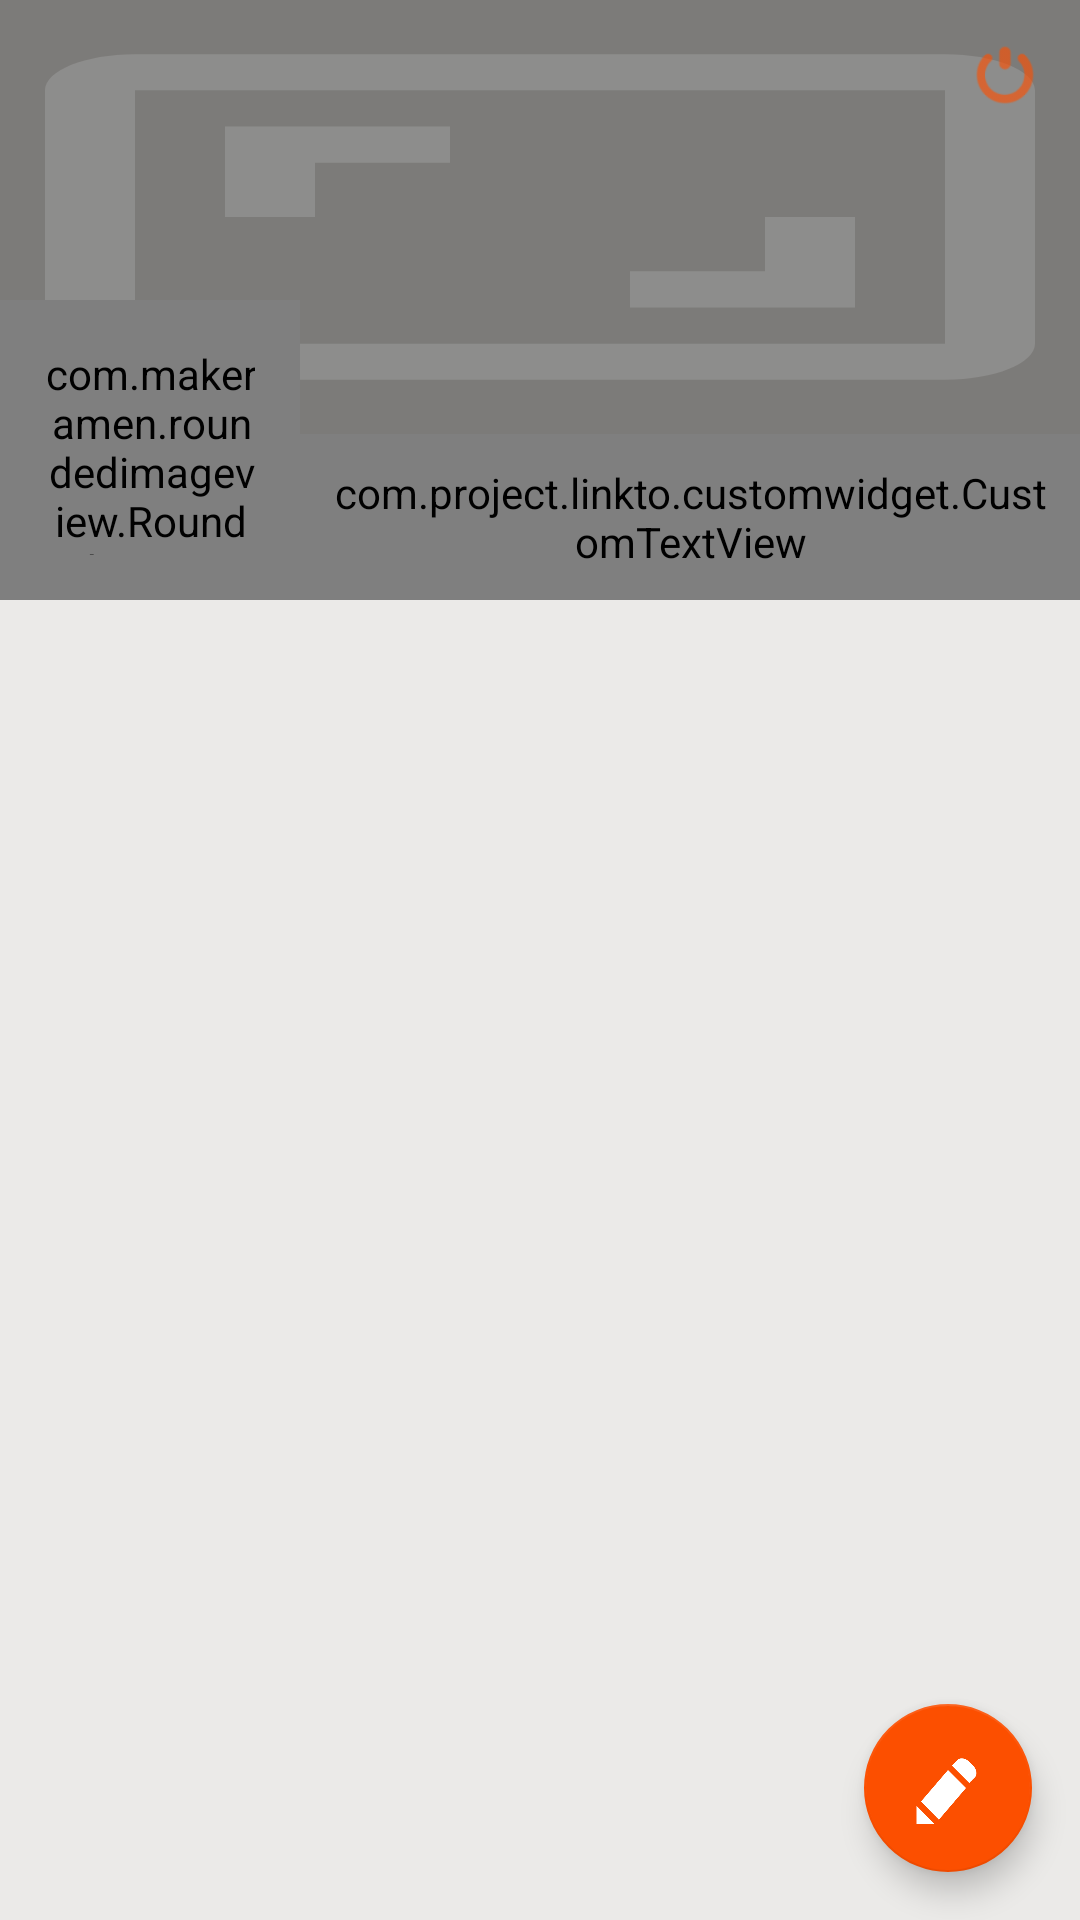

Icon click points for this 1080*1920 phone screenshot, format point (x, y):
pen: point (948, 1788)
